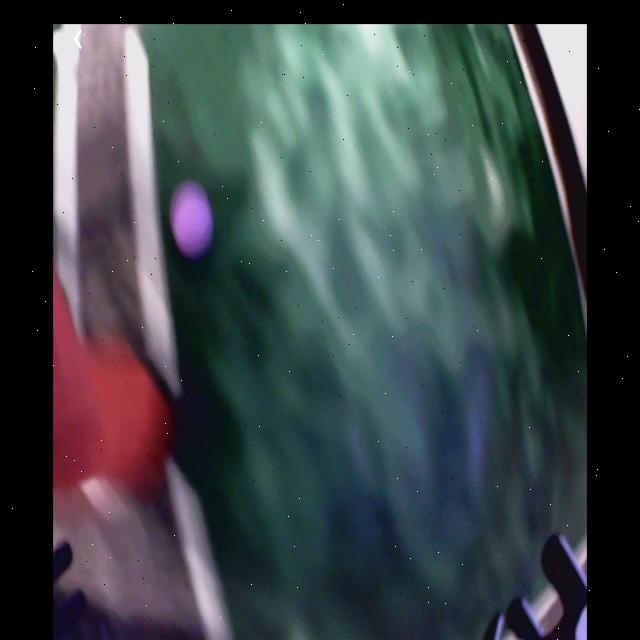ball: (172, 183, 213, 252)
